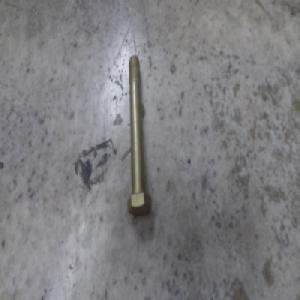Bolt: (125, 53, 151, 211)
